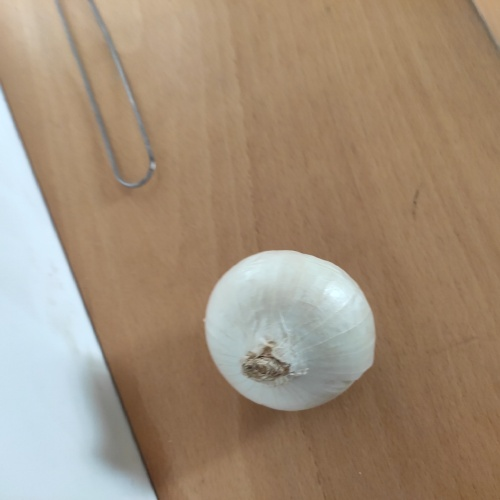cipolla: (196, 242, 387, 418)
